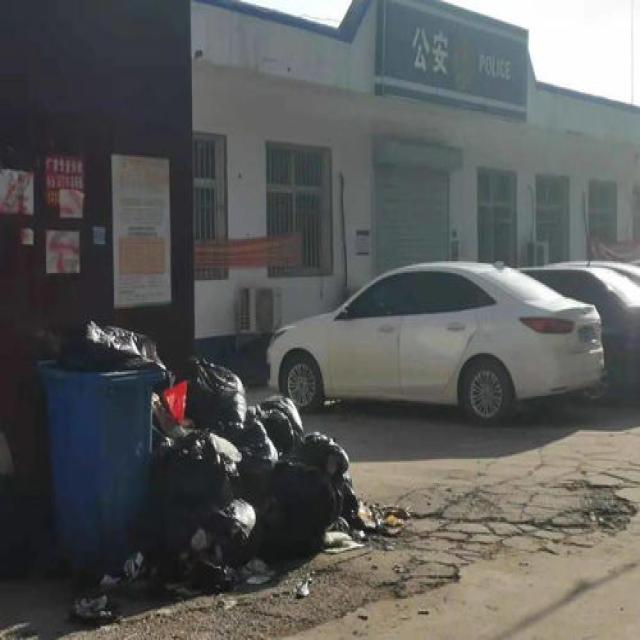garbage: (150, 355, 408, 590)
overflow: (36, 318, 165, 575)
